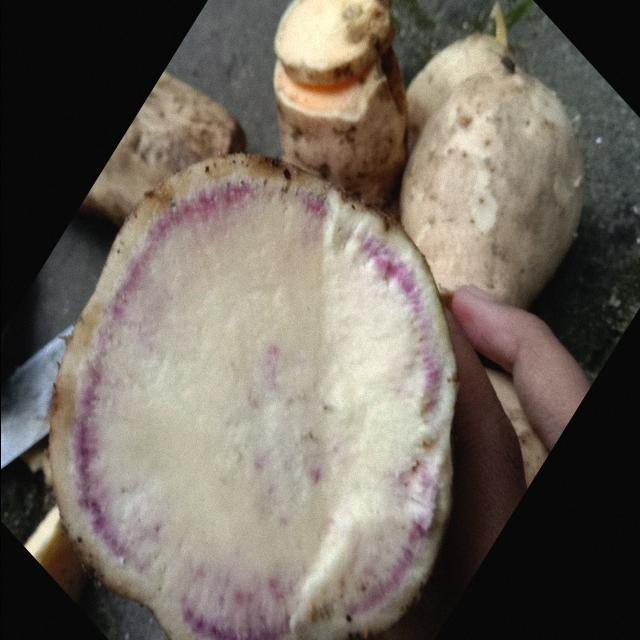Healthy Sweet Potato: (49, 155, 455, 638)
